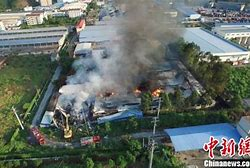smoke: (70, 1, 188, 91)
